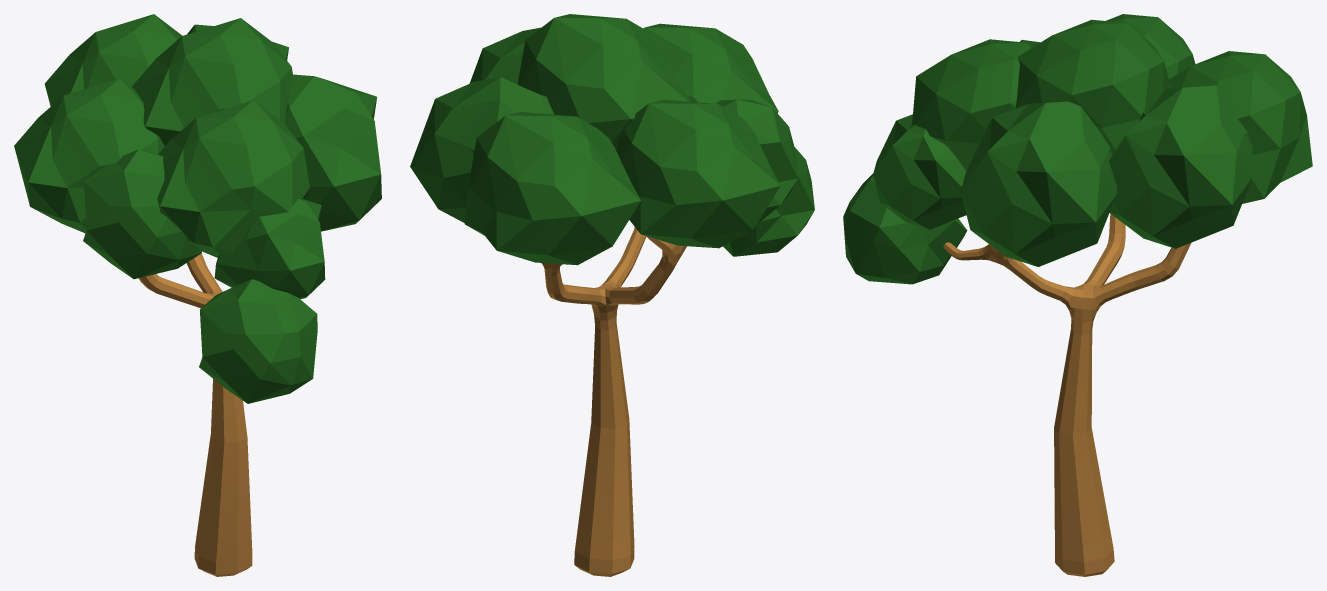
The model's file is tree.133_lev4.glb.
3 renders of one model, left to right at view 1: azimuth 30°, elevation 25°; view 2: azimuth 150°, elevation 25°; view 3: azimuth 270°, elevation 25°, orthographic. The views are drawn at different scales.
Visible parts, largest first — view 1: tree.133_lev4; view 2: tree.133_lev4; view 3: tree.133_lev4.
Part boxes in pixels (x1,y1,x2,y2): tree.133_lev4: [14, 14, 381, 576]; tree.133_lev4: [410, 14, 814, 576]; tree.133_lev4: [843, 14, 1312, 576].
Bounding box in the file's own units: 1.72 × 2.76 × 2.15.
